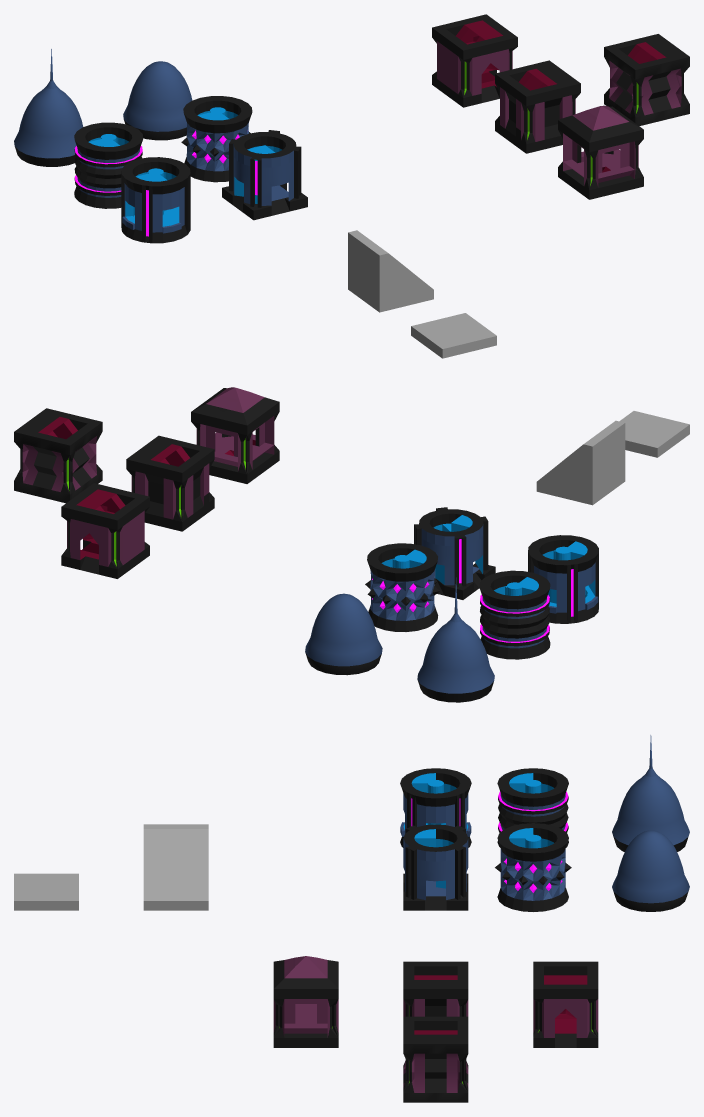
File: 3DFinal.fbx
3 views of the same model, one above another, from view 1: azimuth 30°, elevation 25°; view 2: azimuth 150°, elevation 25°; view 3: azimuth 270°, elevation 25° (orthographic). The views are drawn at different scales.
Visible parts, largest first — view 1: pCube9, pCube12, pCylinder7, pCube10, pasted__pCube1, pCylinder9, pCylinder8, pCylinder4, pSphere2, pCube13, pSphere1, pCube3; view 2: pasted__pCube1, pCube12, pCube9, pCube10, pCylinder8, pCylinder4, pCylinder7, pCylinder9, pSphere2, pSphere1, pCube13, pCube3; view 3: pCube9, pCube13, pasted__pCube1, pCylinder4, pCube12, pCylinder7, pSphere1, pCylinder8, pSphere2, pCylinder9, pCube10, pCube3.
Boxes of the visible parts, box(x1,y1,x2,y2) form: pCube9: box(558, 105, 643, 199); pCube12: box(604, 34, 689, 125); pCylinder7: box(222, 130, 307, 220); pCube10: box(495, 60, 580, 153); pasted__pCube1: box(432, 14, 517, 107); pCylinder9: box(121, 157, 190, 243); pCylinder8: box(74, 122, 143, 208); pCylinder4: box(181, 96, 252, 182); pSphere2: box(14, 49, 83, 166); pCube13: box(348, 230, 433, 312); pSphere1: box(123, 61, 192, 140); pCube3: box(411, 313, 496, 358); pasted__pCube1: box(61, 483, 149, 578); pCube12: box(14, 408, 102, 503); pCube9: box(191, 387, 279, 483); pCube10: box(126, 435, 214, 531); pCylinder8: box(479, 570, 550, 659); pCylinder4: box(365, 543, 439, 631); pCylinder7: box(414, 507, 495, 599); pCylinder9: box(528, 535, 598, 623); pSphere2: box(417, 577, 494, 702); pSphere1: box(305, 593, 382, 675); pCube13: box(536, 420, 625, 505); pCube3: box(619, 411, 689, 457); pCube9: box(273, 956, 338, 1047); pCube13: box(143, 824, 208, 910); pasted__pCube1: box(533, 961, 598, 1047); pCylinder4: box(495, 823, 571, 911); pCube12: box(403, 1016, 468, 1102); pCylinder7: box(403, 824, 468, 910); pSphere1: box(612, 830, 689, 911); pCylinder8: box(497, 768, 568, 847); pSphere2: box(612, 735, 689, 851); pCylinder9: box(400, 768, 471, 847); pCube10: box(403, 961, 468, 1016); pCube3: box(14, 873, 78, 910).
Bounding box in the file's own units: 50.51 × 9.43 × 52.07.
